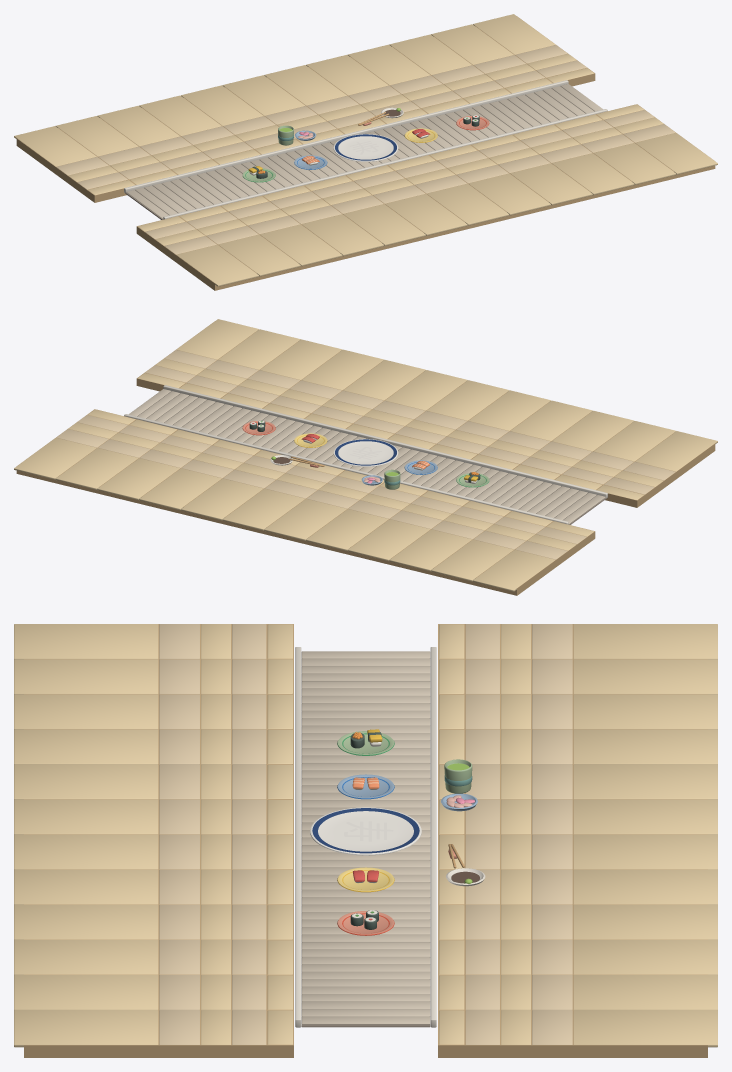
Rendered from sushi_kit.glb.
The picture shows the model from 3 angles, top to bottom: view 1: azimuth 30°, elevation 25°; view 2: azimuth 150°, elevation 25°; view 3: azimuth 270°, elevation 25°; orthographic projection. The views are drawn at different scales.
Visible parts, largest first — view 1: COUNTER, BELT, PLATE_Giant; view 2: COUNTER, BELT, PLATE_Giant; view 3: COUNTER, BELT, PLATE_Giant, RIDE_2_Plate, RIDE_1_Plate, PROP_Teacup, RIDE_3_Plate, RIDE_0_Plate.
Part boxes in pixels (left/top/right/bottom): COUNTER: left=14, top=14, right=717, bottom=290; BELT: left=124, top=80, right=607, bottom=219; PLATE_Giant: left=333, top=134, right=398, bottom=161; COUNTER: left=14, top=319, right=717, bottom=595; BELT: left=124, top=385, right=607, bottom=524; PLATE_Giant: left=333, top=439, right=398, bottom=466; COUNTER: left=14, top=624, right=717, bottom=1057; BELT: left=295, top=647, right=436, bottom=1027; PLATE_Giant: left=310, top=807, right=421, bottom=855; RIDE_2_Plate: left=337, top=867, right=394, bottom=892; RIDE_1_Plate: left=337, top=774, right=394, bottom=799; PROP_Teacup: left=444, top=759, right=472, bottom=793; RIDE_3_Plate: left=337, top=911, right=394, bottom=935; RIDE_0_Plate: left=337, top=731, right=394, bottom=755.
Bounding box in the file's own units: 96 × 4.01 × 67.82.
1 material, 1 textured.
